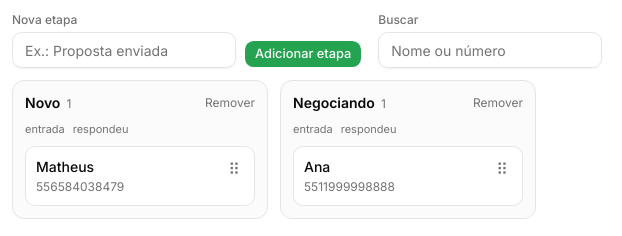
Scenario: busca › filtra os cards por nome em todas as colunas
In the search field labelled "Buscar": (490, 50) [378,32,602,68], type "Ana"
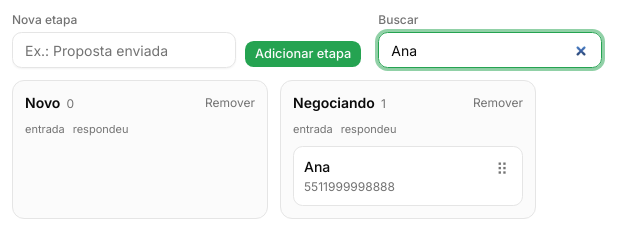
Expected: the text "Ana" is shown, [304,158,330,174]
Result: the link "Matheus" is gone
